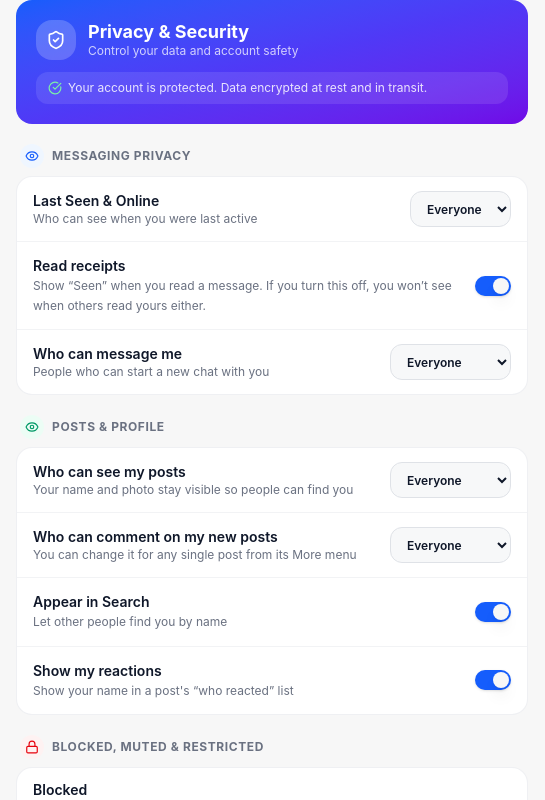
Privacy page › loads and saves who can see my posts
Select "My followers" in the dropdown named "Who can see my posts" at (450, 480), box x1=390 y1=462 x2=511 y2=498
(page scrolled)
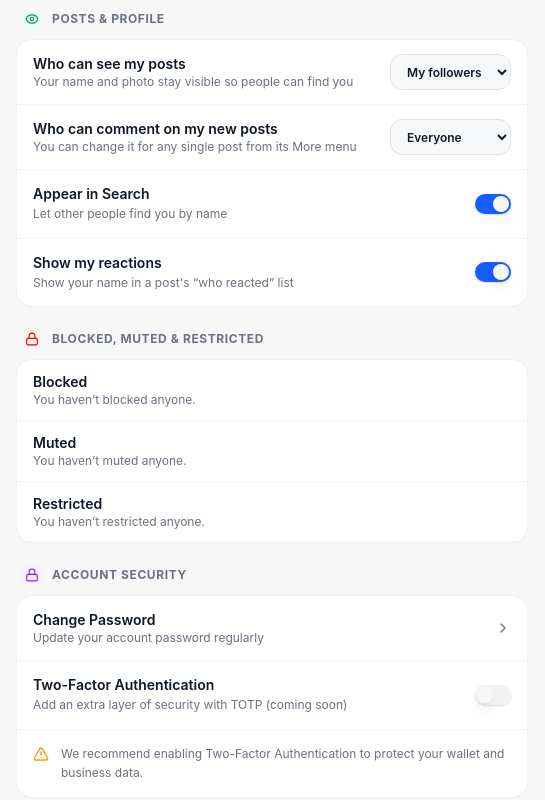
Check: the text "You haven’t blocked anyone." is shown, box x1=33 y1=392 x2=196 y2=407
